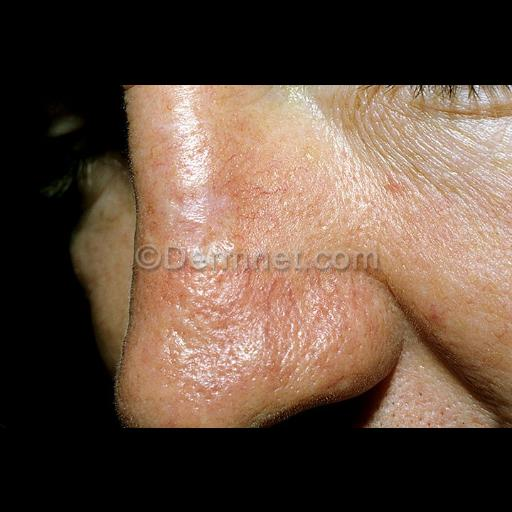Skin_Lesion: (170, 290, 268, 344), (285, 294, 351, 358), (175, 354, 231, 412), (193, 237, 249, 279)
